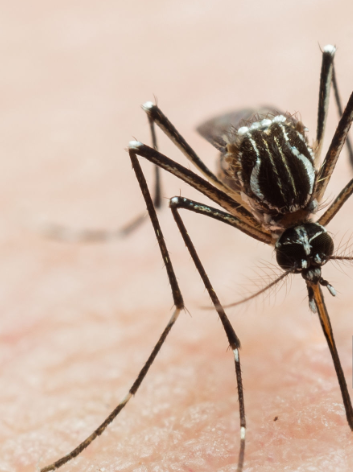dengue_mosquito: (129, 43, 353, 430)
